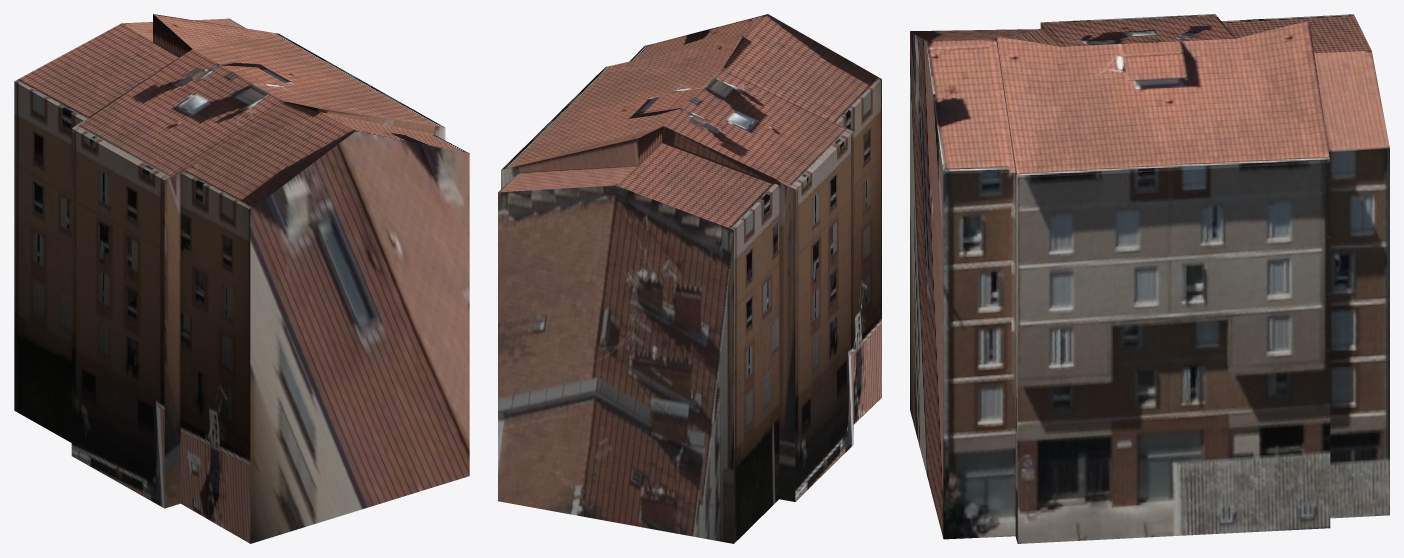
3 renders of one model, left to right at view 1: azimuth 30°, elevation 25°; view 2: azimuth 150°, elevation 25°; view 3: azimuth 270°, elevation 25°, orthographic. The views are drawn at different scales.
Parts seen in each view (by area): view 1: Z_UP; view 2: Z_UP; view 3: Z_UP.
Boxes of the visible parts, box(x1,y1,x2,y2) form: Z_UP: box(14, 14, 469, 543); Z_UP: box(498, 14, 881, 543); Z_UP: box(910, 14, 1389, 543).
Bounding box in the file's own units: 16.29 × 20.75 × 20.85.
Materials: 2 (1 with a texture image).
